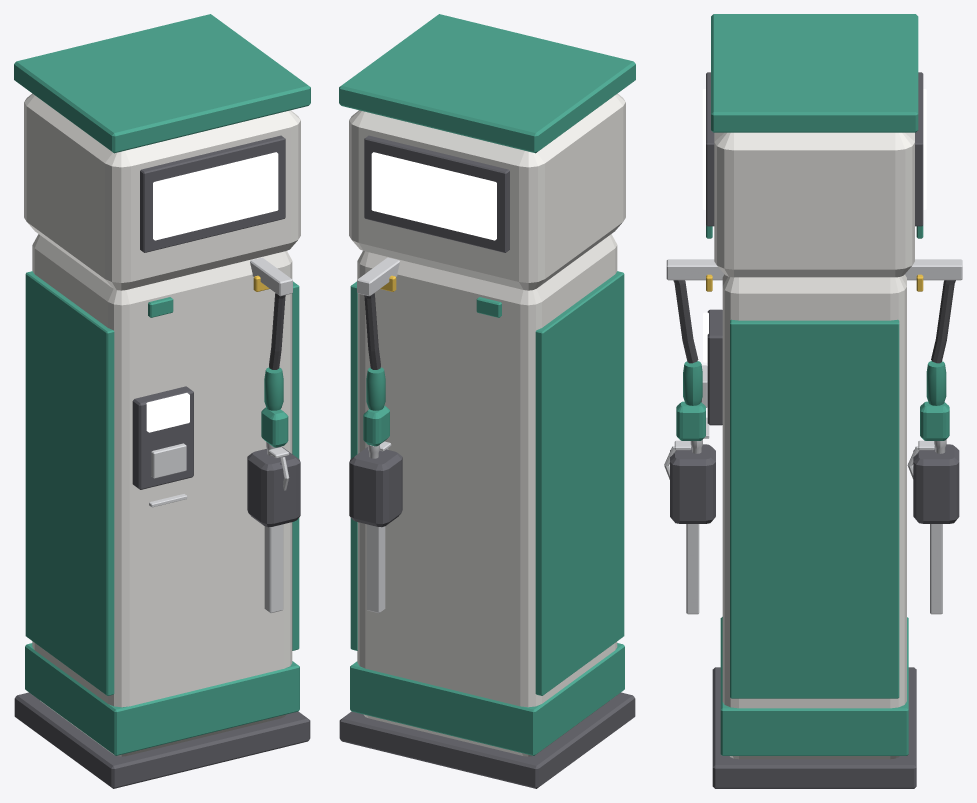
Rendered from FuelPumpTwoHose.glb.
The picture shows the model from 3 angles, left to right: view 1: azimuth 30°, elevation 25°; view 2: azimuth 150°, elevation 25°; view 3: azimuth 270°, elevation 25°; orthographic projection. The views are drawn at different scales.
Visible parts, largest first — view 1: fuel-pump-two-hose, pump-nozzle/accent; view 2: fuel-pump-two-hose; view 3: fuel-pump-two-hose, pump-nozzle/accent.
Boxes of the visible parts, x1,y1,x2,y2 form: fuel-pump-two-hose: (14, 14, 310, 788); pump-nozzle/accent: (261, 367, 288, 447); fuel-pump-two-hose: (339, 14, 635, 788); fuel-pump-two-hose: (666, 14, 962, 788); pump-nozzle/accent: (676, 361, 705, 440).
Size of the model in its own units: 0.7201 by 2.27 by 0.9072.
